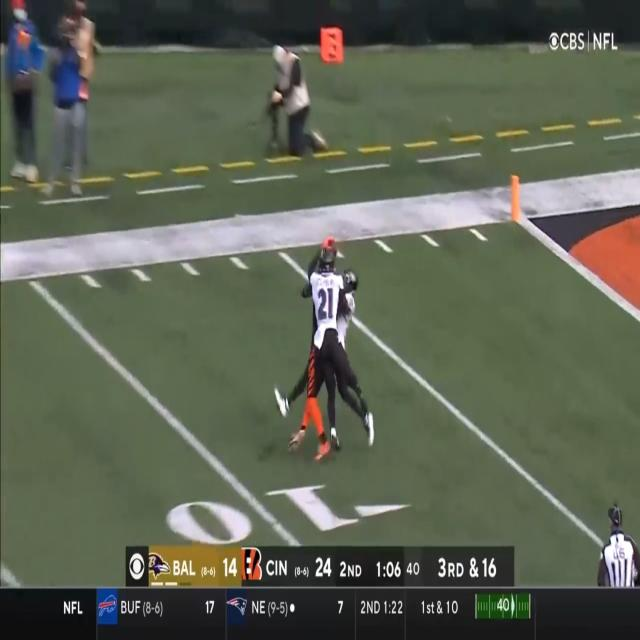Ball: (325, 237, 339, 258)
